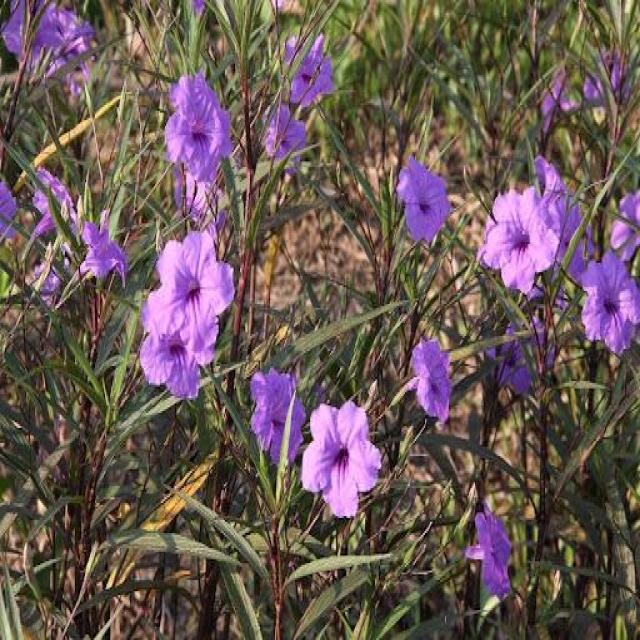organic waste: (139, 234, 233, 398), (160, 67, 234, 192), (310, 400, 382, 524), (480, 188, 560, 298), (578, 231, 632, 364), (266, 22, 340, 116), (380, 148, 450, 240), (403, 310, 459, 424), (465, 506, 519, 616), (252, 365, 303, 474), (518, 49, 582, 133), (12, 2, 78, 82), (74, 204, 124, 288), (252, 111, 308, 167), (2, 193, 32, 259)
